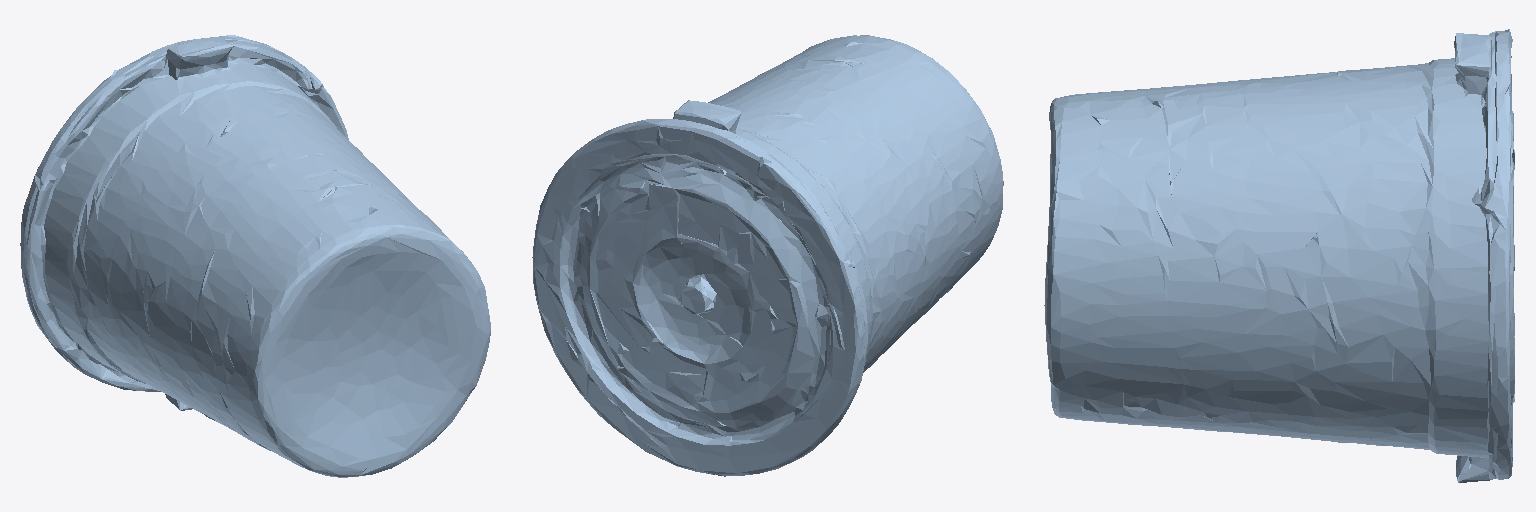
robot.urdf — bucket007:
<?xml version="1.0" ?>
<robot name="bucket007">
  <dynamics damping="0.5" friction="0.9"/>
  <link name="bucket007_link">
    <inertial>
      <mass value="1.0"/>
      <origin xyz="0 0 0"/>
      <inertia ixx="0.01" ixy="0" ixz="0" iyy="0.01" iyz="0" izz="0.01"/>
    </inertial>
    <visual>
      <origin rpy="0 0 0" xyz="0 0 0"/>
      <geometry>
        <mesh filename="bucket007.obj" scale="1.0 1.0 1.0"/>
      </geometry>
      <material name="mat">
        <color rgba="0.7 0.8 0.9 0.7"/>
      </material>
    </visual>
    <collision name="bucket007">
      <origin rpy="0 0 0" xyz="0 0 0"/>
      <geometry>
        <mesh filename="bucket007.obj" scale="1.0 1.0 1.0"/>
      </geometry>
    </collision>
  </link>
</robot>

--- What the picture shows (computed from the rendered views, not written in the file) ---
3 views of the same robot in one strip: view 1: azimuth 30°, elevation 25°; view 2: azimuth 150°, elevation 25°; view 3: azimuth 270°, elevation 25° (orthographic).
Robot: bucket007 — 1 links, 0 joints (none); root link bucket007_link; default pose: all joints at 0.
Visible links, largest first — view 1: bucket007_link; view 2: bucket007_link; view 3: bucket007_link.
Boxes of the visible links, x1,y1,x2,y2 form: bucket007_link: [20, 35, 490, 477]; bucket007_link: [532, 35, 1003, 476]; bucket007_link: [1044, 29, 1514, 482].
Size in the robot's own frame: 0.5466 by 0.5739 by 0.5698 metres.
Meshes: 1 distinct files referenced, 1 mesh visuals loaded (1 OBJ).
